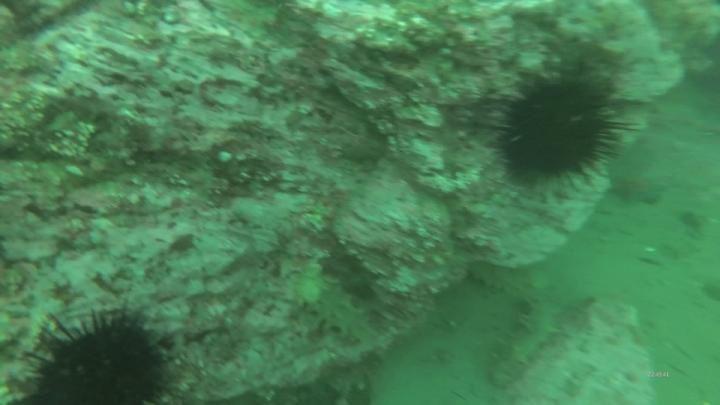echinus: (4, 301, 185, 405), (491, 63, 631, 192)
holothurian: (292, 264, 383, 354), (484, 295, 563, 390), (466, 262, 559, 299)
